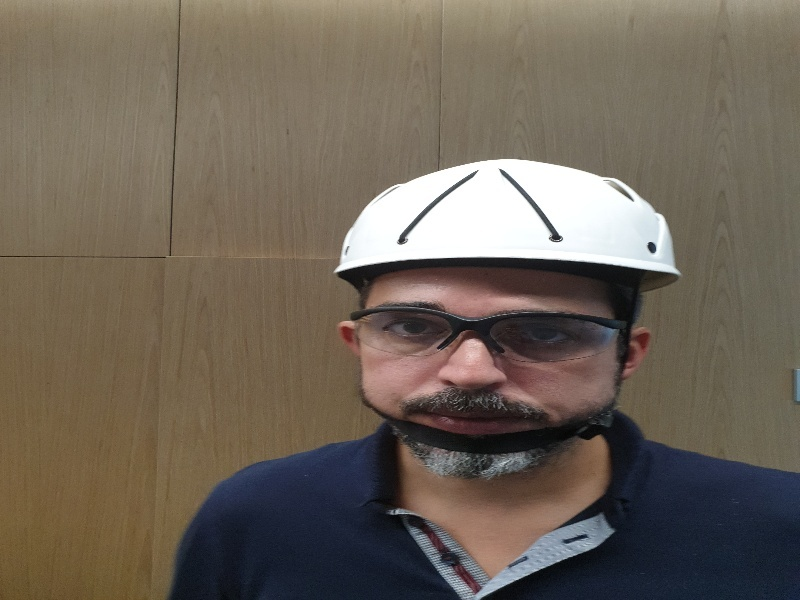Baret: (335, 158, 682, 294)
Gozluk: (350, 305, 627, 360)
